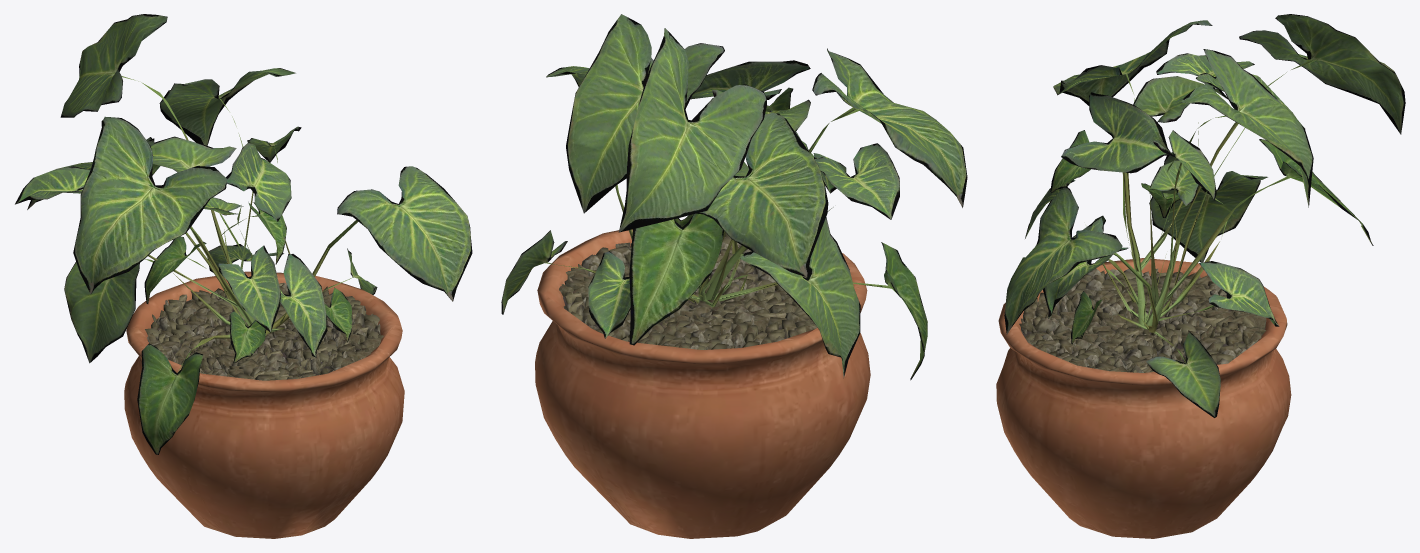
Rendered from plant-wide.glb.
The picture shows the model from 3 angles, left to right: view 1: azimuth 30°, elevation 25°; view 2: azimuth 150°, elevation 25°; view 3: azimuth 270°, elevation 25°; orthographic projection. The views are drawn at different scales.
Visible parts, largest first — view 1: potted_plant_02_leaves, potted_plant_02_pot; view 2: potted_plant_02_leaves, potted_plant_02_pot; view 3: potted_plant_02_pot, potted_plant_02_leaves.
Part boxes in pixels (x1,y1,x2,y2): potted_plant_02_leaves: (15, 14, 472, 454); potted_plant_02_pot: (124, 271, 404, 538); potted_plant_02_leaves: (501, 14, 967, 380); potted_plant_02_pot: (535, 229, 870, 538); potted_plant_02_pot: (996, 258, 1291, 538); potted_plant_02_leaves: (1004, 14, 1405, 417).
Bounding box in the file's own units: 0.7009 × 0.8401 × 0.6561.
2 materials, 2 textured.
